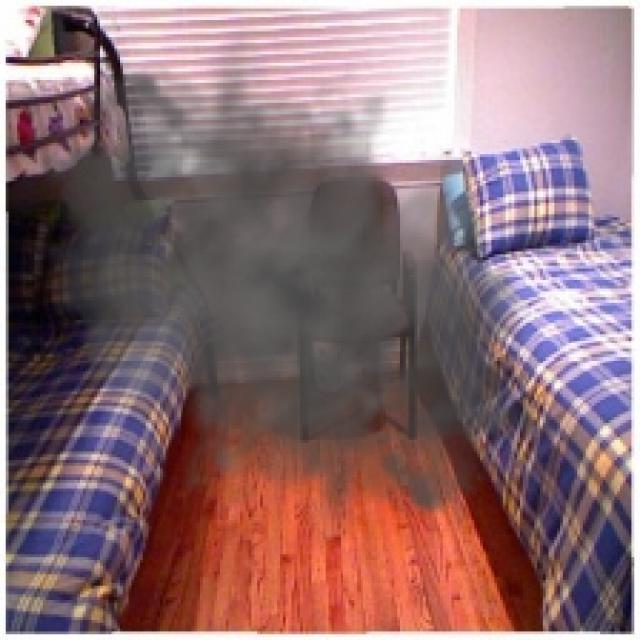Smoke: (0, 28, 569, 554)
